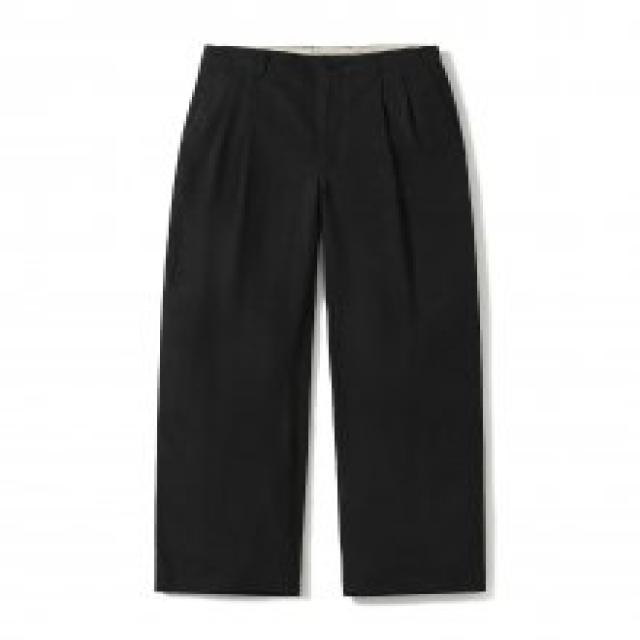long-pants: (144, 41, 496, 602)
